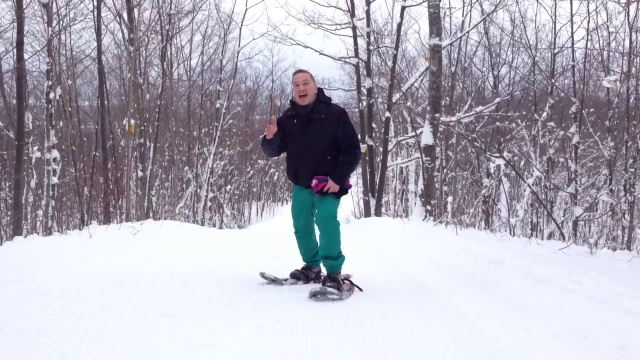person: (260, 69, 365, 301)
